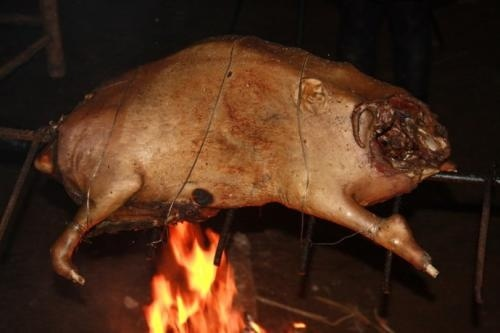fire: (143, 219, 261, 333)
